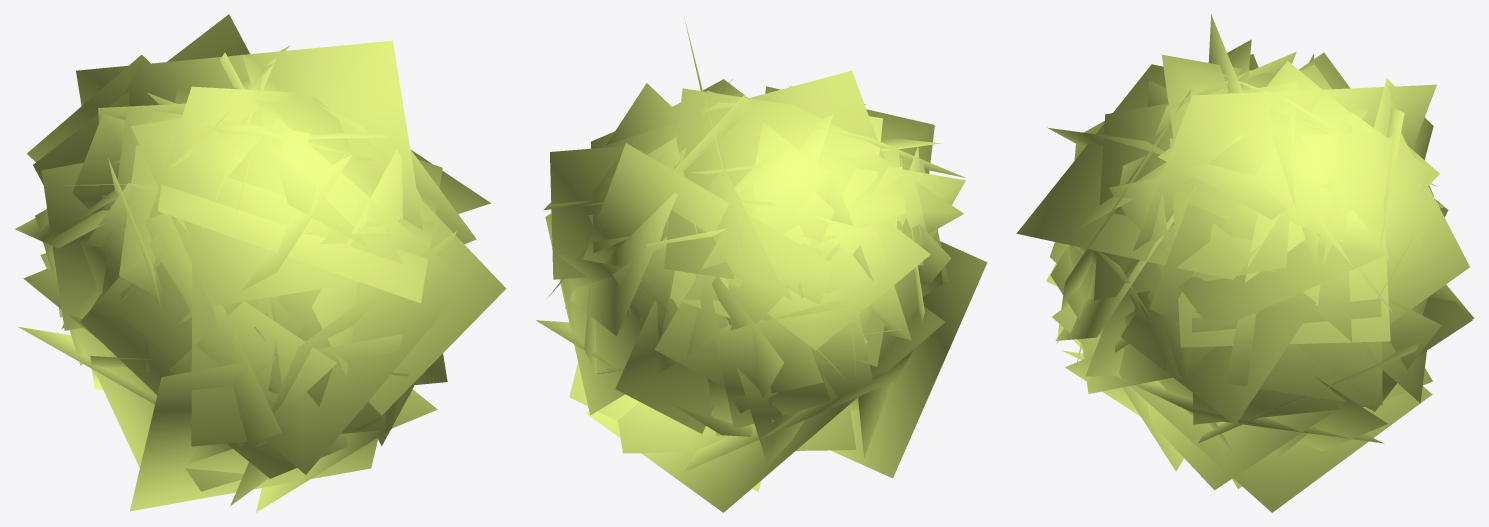
File: bush1.fbx
3 views of the same model, side by side, from view 1: azimuth 30°, elevation 25°; view 2: azimuth 150°, elevation 25°; view 3: azimuth 270°, elevation 25° (orthographic). The views are drawn at different scales.
Parts seen in each view (by area): view 1: Bush; view 2: Bush; view 3: Bush.
Boxes of the visible parts, box(x1,y1,x2,y2) form: Bush: box(15, 14, 506, 512); Bush: box(536, 18, 987, 512); Bush: box(1016, 14, 1474, 512).
Bounding box in the file's own units: 5.58 × 6.05 × 5.72.
